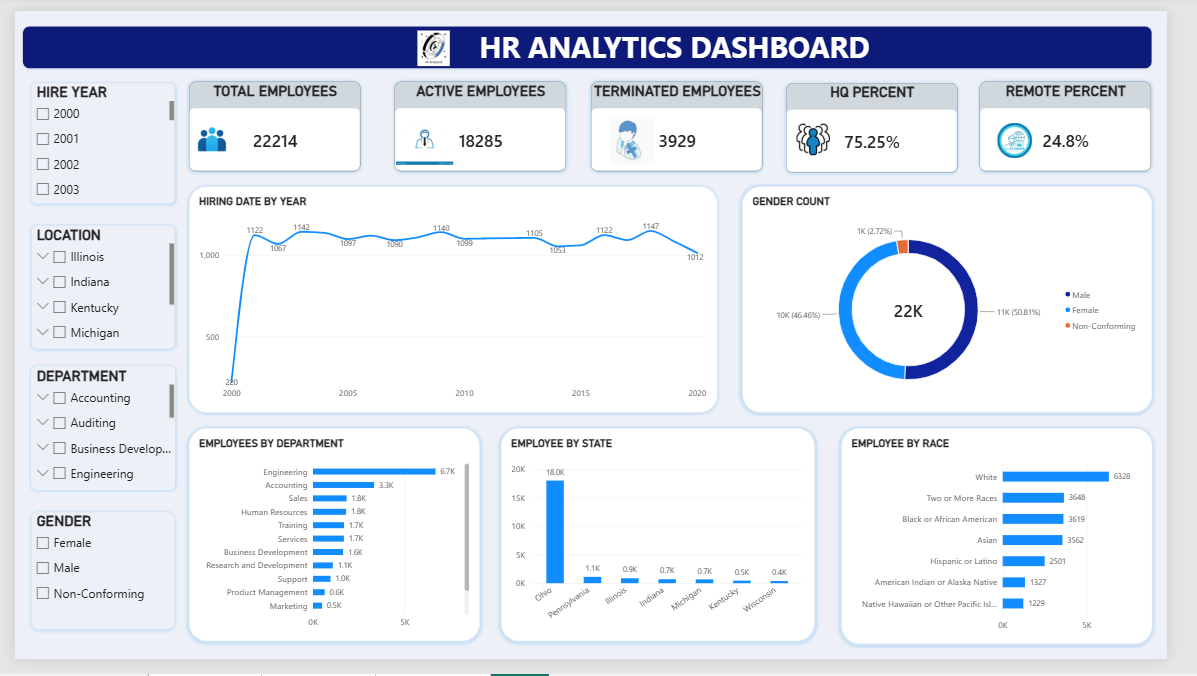

The dashboard page shown, as its layout file describes it:
{"tool":"powerbi","page":{"name":"Page 1","canvas":[1920,1080],"ordinal":0},"visuals":[{"type":"textbox","box":[11.9,26.2,1882.5,71.6],"z":0},{"type":"image","box":[620.3,33.4,155.1,59.6],"z":1000},{"type":"cardVisual","title":"TOTAL EMPLOYEES","fields":{"Data":["project_hr_analytics HR.TotalEmployees"]},"box":[291.1,116.9,286.3,150.3],"z":2000},{"type":"cardVisual","title":"REMOTE PERCENT","fields":{"Data":["project_hr_analytics HR.RemotePercent"]},"box":[1608.1,116.9,286.3,150.3],"z":3000},{"type":"cardVisual","title":"HQ PERCENT","fields":{"Data":["project_hr_analytics HR.HQPercent"]},"box":[1286,119.3,286.3,150.3],"z":4000},{"type":"cardVisual","title":"TERMINATED EMPLOYEES","fields":{"Data":["project_hr_analytics HR.TerminatedEmployees"]},"box":[959.1,116.9,286.3,150.3],"z":5000},{"type":"cardVisual","title":"ACTIVE EMPLOYEES","fields":{"Data":["project_hr_analytics HR.ActiveEmployees"]},"box":[632.3,116.9,286.3,150.3],"z":6000},{"type":"lineChart","title":"HIRING DATE BY YEAR","fields":{"Category":["project_hr_analytics HR.Hire Year"],"Y":["CountNonNull(project_hr_analytics HR.hire_date)"]},"box":[291.1,293.5,880.4,377],"z":7000},{"type":"donutChart","title":"GENDER COUNT","fields":{"Category":["project_hr_analytics HR.gender"],"Y":["project_hr_analytics HR.GenderCount"]},"box":[1212,293.5,682.4,377],"z":8000},{"type":"barChart","title":"EMPLOYEES BY DEPARTMENT","fields":{"Category":["project_hr_analytics HR.department"],"Y":["project_hr_analytics HR.TotalEmployees"]},"box":[291.1,694.3,484.3,355.5],"z":9000},{"type":"columnChart","title":"EMPLOYEE BY STATE","fields":{"Category":["project_hr_analytics HR.location_state"],"Y":["project_hr_analytics HR.TotalEmployees"]},"box":[810,695,522.5,355],"z":10000},{"type":"barChart","title":"EMPLOYEE BY RACE","fields":{"Category":["project_hr_analytics HR.race"],"Y":["project_hr_analytics HR.TotalEmployees"]},"box":[1376.7,694.3,517.7,360.3],"z":11000},{"type":"image","box":[291.1,188.5,76.3,52.5],"z":12000},{"type":"image","box":[634.7,174.2,95.4,81.1],"z":13000},{"type":"image","box":[983,174.2,93.1,81.1],"z":14000},{"type":"image","box":[1286,183.7,90.7,59.6],"z":15000},{"type":"image","box":[1636.7,176.6,57.3,76.3],"z":16000},{"type":"slicer","fields":{"Values":["project_hr_analytics HR.Hire Year"]},"box":[28.6,119.3,238.6,200.4],"z":17000},{"type":"slicer","fields":{"Values":["project_hr_analytics HR.location_state","project_hr_analytics HR.department"]},"box":[28.6,357.9,238.6,205.2],"z":18000},{"type":"slicer","fields":{"Values":["project_hr_analytics HR.department","project_hr_analytics HR.gender"]},"box":[28.6,591.7,238.6,205.2],"z":19000},{"type":"slicer","fields":{"Values":["project_hr_analytics HR.gender"]},"box":[28.6,835.1,238.6,195.6],"z":20000}]}

Visuals, with their boxes in screenshot pixels (x1, y1, x2, y2), scaled from the page's 1920x1080 canvas onto the 1197x676 screenshot:
textbox: {"x1": 7, "y1": 16, "x2": 1181, "y2": 61}
image: {"x1": 387, "y1": 21, "x2": 483, "y2": 58}
"TOTAL EMPLOYEES" cardVisual: {"x1": 181, "y1": 73, "x2": 360, "y2": 167}
"REMOTE PERCENT" cardVisual: {"x1": 1003, "y1": 73, "x2": 1181, "y2": 167}
"HQ PERCENT" cardVisual: {"x1": 802, "y1": 75, "x2": 980, "y2": 169}
"TERMINATED EMPLOYEES" cardVisual: {"x1": 598, "y1": 73, "x2": 776, "y2": 167}
"ACTIVE EMPLOYEES" cardVisual: {"x1": 394, "y1": 73, "x2": 573, "y2": 167}
"HIRING DATE BY YEAR" lineChart: {"x1": 181, "y1": 184, "x2": 730, "y2": 420}
"GENDER COUNT" donutChart: {"x1": 756, "y1": 184, "x2": 1181, "y2": 420}
"EMPLOYEES BY DEPARTMENT" barChart: {"x1": 181, "y1": 435, "x2": 483, "y2": 657}
"EMPLOYEE BY STATE" columnChart: {"x1": 505, "y1": 435, "x2": 831, "y2": 657}
"EMPLOYEE BY RACE" barChart: {"x1": 858, "y1": 435, "x2": 1181, "y2": 660}
image: {"x1": 181, "y1": 118, "x2": 229, "y2": 151}
image: {"x1": 396, "y1": 109, "x2": 455, "y2": 160}
image: {"x1": 613, "y1": 109, "x2": 671, "y2": 160}
image: {"x1": 802, "y1": 115, "x2": 858, "y2": 152}
image: {"x1": 1020, "y1": 111, "x2": 1056, "y2": 158}
slicer - project_hr_analytics HR.Hire Year: {"x1": 18, "y1": 75, "x2": 167, "y2": 200}
slicer - project_hr_analytics HR.location_state x project_hr_analytics HR.department: {"x1": 18, "y1": 224, "x2": 167, "y2": 352}
slicer - project_hr_analytics HR.department x project_hr_analytics HR.gender: {"x1": 18, "y1": 370, "x2": 167, "y2": 499}
slicer - project_hr_analytics HR.gender: {"x1": 18, "y1": 523, "x2": 167, "y2": 645}
